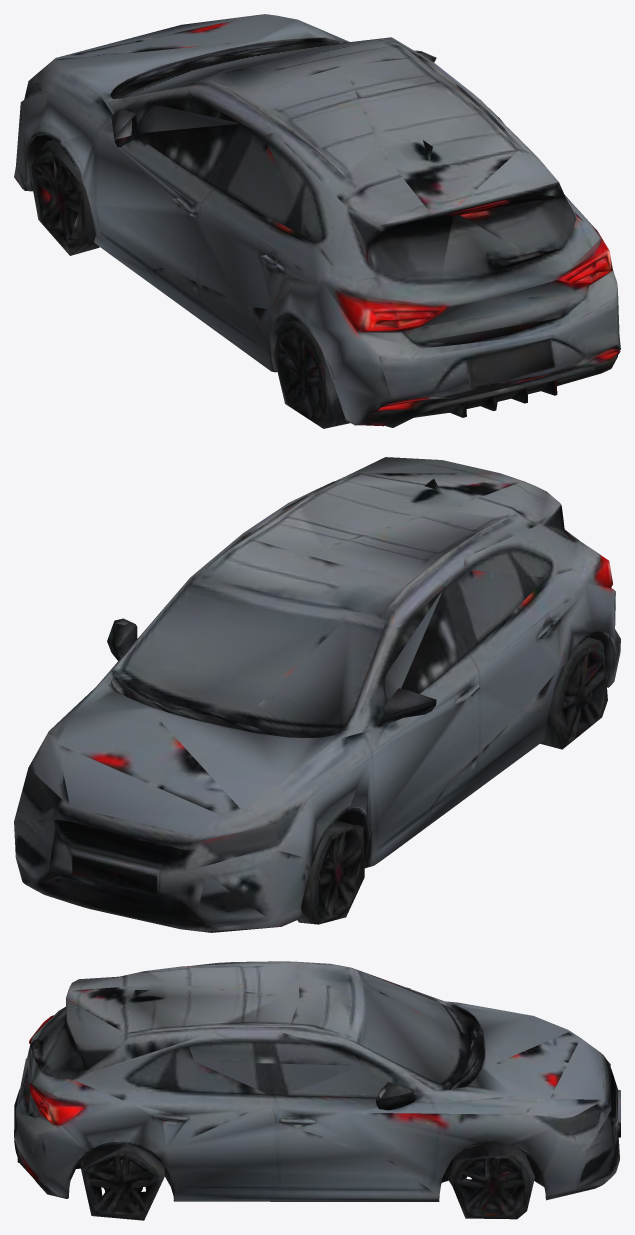
The model's file is car_hatchback.glb.
3 views of the same model, one above another, from view 1: azimuth 30°, elevation 25°; view 2: azimuth 150°, elevation 25°; view 3: azimuth 270°, elevation 25° (orthographic). The views are drawn at different scales.
Visible parts, largest first — view 1: fit; view 2: fit; view 3: fit.
Boxes of the visible parts, <box> form: fit: <box>14,14,620,428</box>; fit: <box>14,457,620,932</box>; fit: <box>14,961,620,1220</box>.
Bounding box in the file's own units: 1.92 × 1.37 × 4.1.
Materials: 1 (1 with a texture image).
